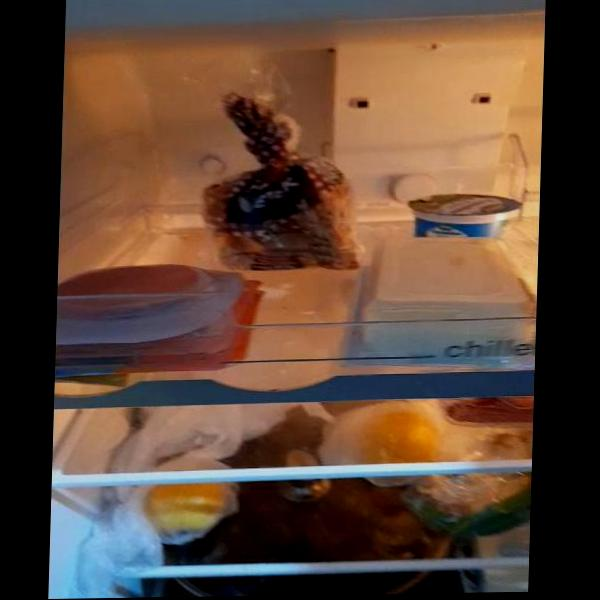bread: (205, 162, 357, 265)
cheese: (364, 239, 525, 340)
green chilies: (405, 476, 532, 538)
lemon: (348, 407, 442, 467), (147, 480, 226, 532)
salami: (61, 261, 226, 344)
yoghurt: (411, 193, 517, 237)
